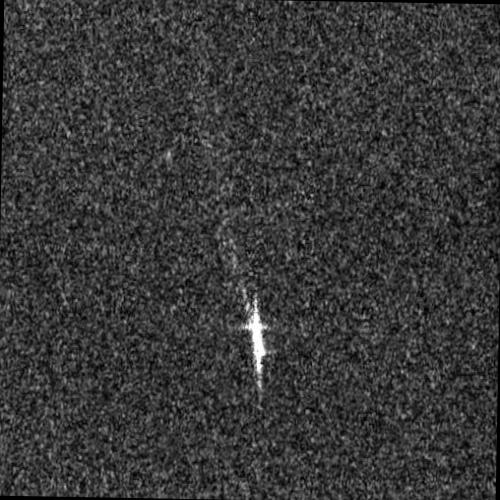ship: (249, 306, 266, 374)
